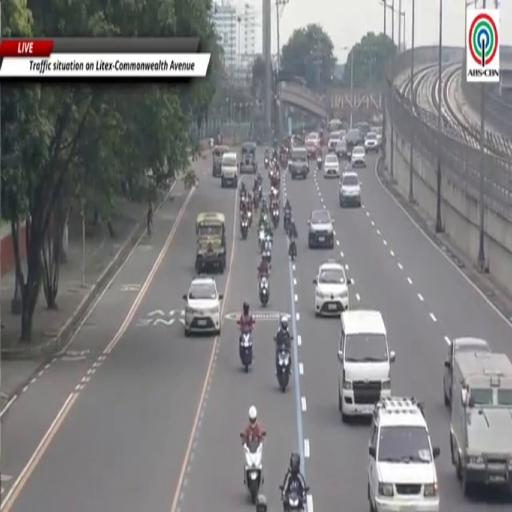car: (367, 396, 440, 511), (338, 310, 395, 422), (444, 336, 491, 406), (183, 275, 223, 337), (313, 260, 353, 315), (308, 210, 333, 248), (339, 172, 361, 206), (288, 148, 309, 179), (221, 153, 239, 188), (324, 153, 339, 178), (346, 128, 363, 149), (335, 137, 350, 160), (306, 133, 319, 158), (351, 147, 366, 167), (364, 132, 378, 152), (328, 132, 341, 152), (356, 122, 369, 139), (372, 126, 382, 147)
jeepney: (195, 213, 226, 273), (240, 142, 257, 174), (213, 146, 229, 177)
motorcycle: (241, 432, 266, 504), (276, 347, 290, 392), (283, 488, 308, 511), (239, 332, 253, 372), (261, 234, 272, 263), (259, 276, 269, 307), (289, 238, 296, 261), (258, 229, 265, 250), (272, 208, 279, 229), (270, 186, 279, 202), (241, 219, 248, 239), (284, 212, 290, 234), (262, 249, 271, 263), (254, 191, 259, 211), (247, 209, 252, 227), (264, 156, 270, 170), (317, 157, 322, 170)
truck: (450, 351, 511, 495)
